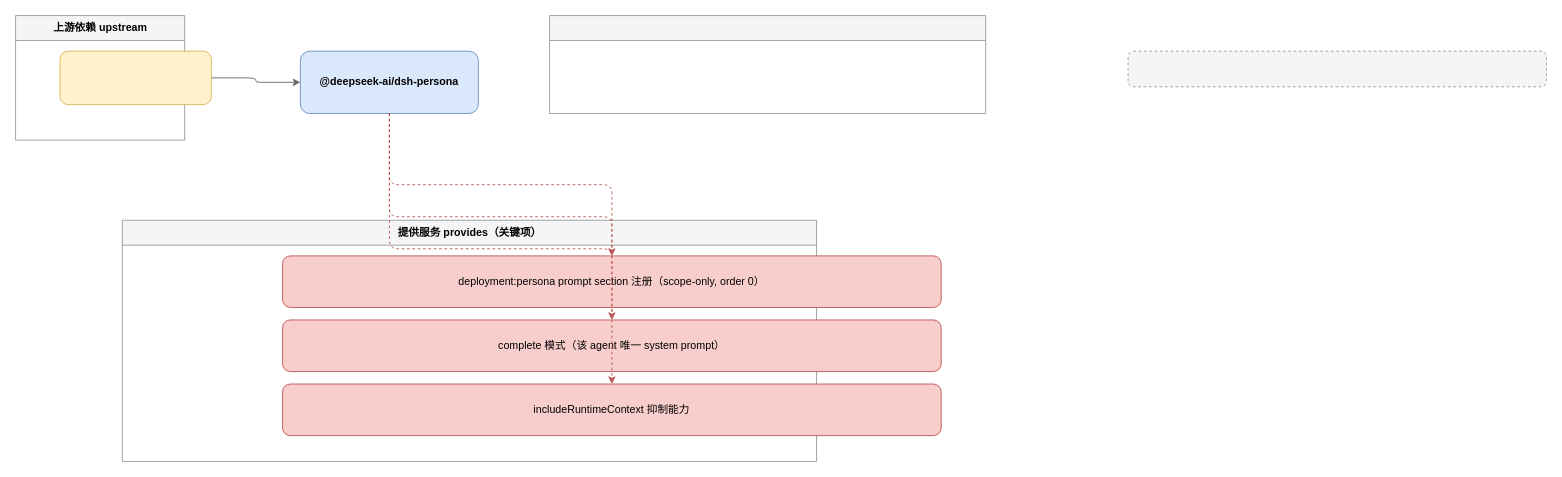
The diagram is 1562 pixels wide and 477 high, and some of its shapes have lost their labels. Each missing label, with the centre of its shape:
"dsh-system-prompt (E1)" belongs at (x=135, y=77).
"下游被依赖 dependents" belongs at (x=767, y=64).
"无下游" belongs at (x=1336, y=68).
